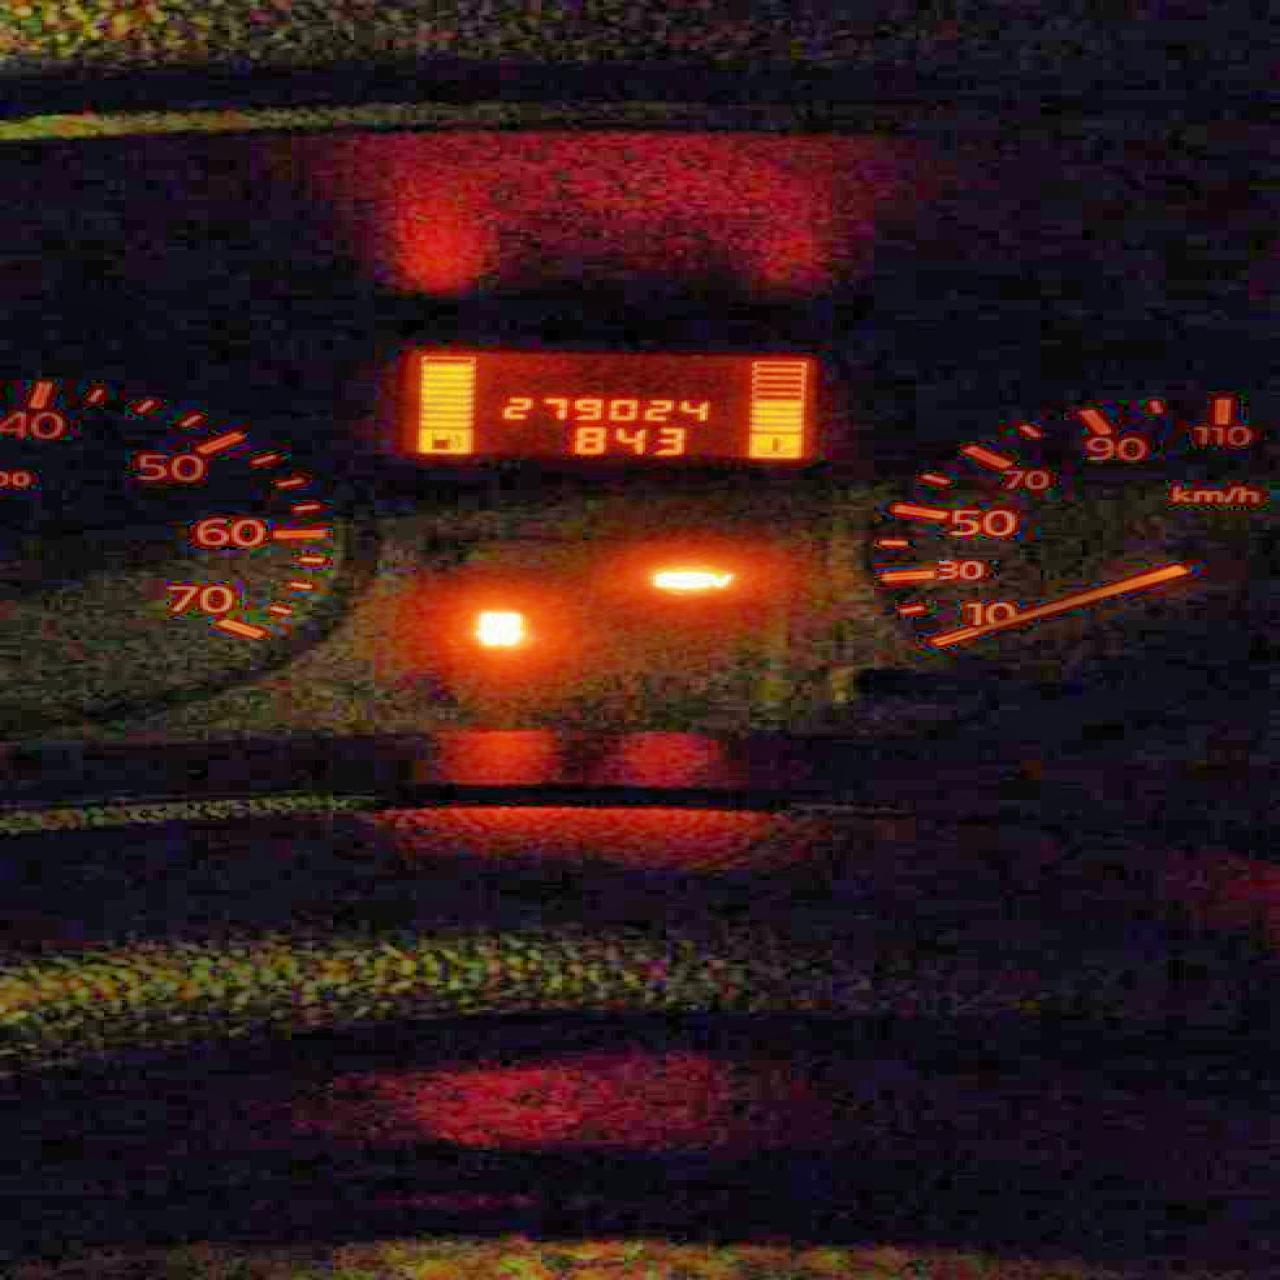0: (606, 399, 635, 420)
2: (499, 396, 531, 418), (640, 399, 670, 421)
3: (651, 425, 685, 455)
4: (612, 427, 642, 454), (676, 400, 708, 420)
7: (542, 397, 567, 418)
8: (570, 425, 604, 454)
9: (572, 397, 601, 421)
odometer: (390, 345, 815, 459)
